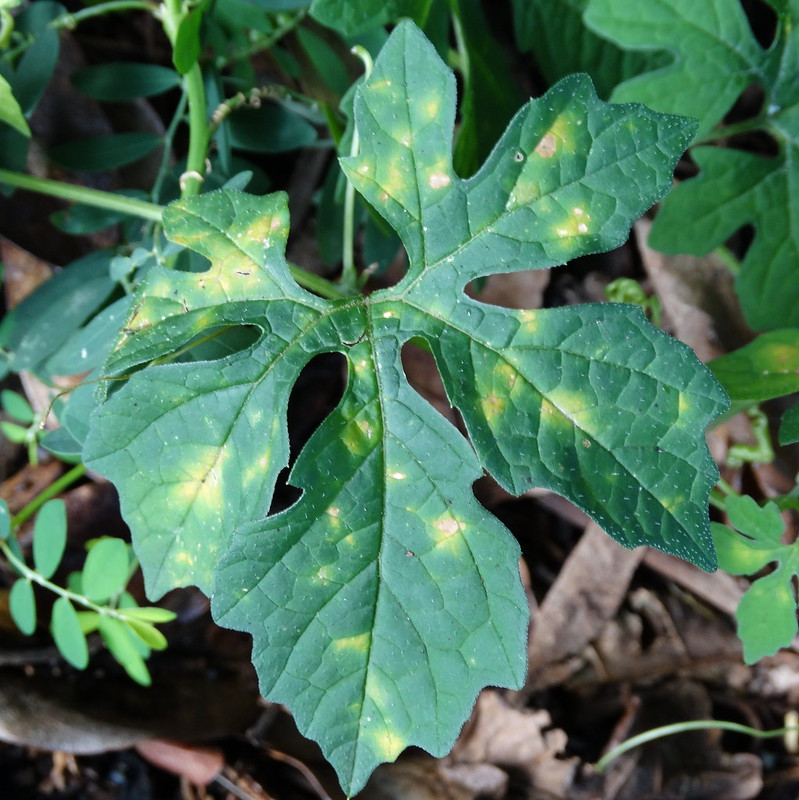BitterGround_PowderyMildew: (118, 36, 699, 739)
